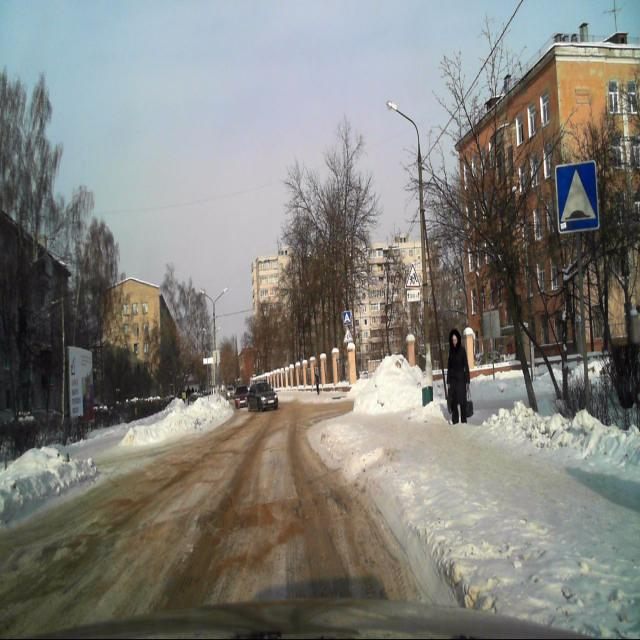object: (577, 233, 592, 415)
road sign: (556, 162, 600, 236), (404, 264, 420, 289), (344, 327, 352, 342)
